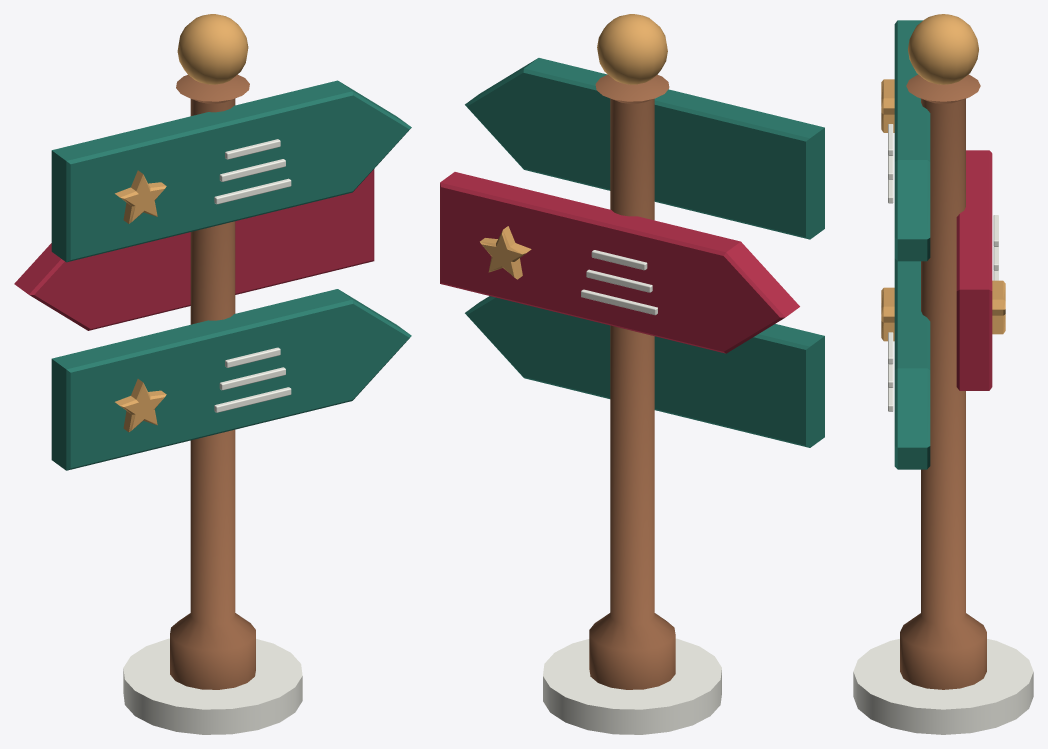
The model's file is storybook-christmas-market-market-wayfinding-sign-0ffe228b__19703.glb.
The picture shows the model from 3 angles, left to right: view 1: azimuth 30°, elevation 25°; view 2: azimuth 150°, elevation 25°; view 3: azimuth 270°, elevation 25°; orthographic projection.
Visible parts, largest first — view 1: market-wayfinding-sign; view 2: market-wayfinding-sign; view 3: market-wayfinding-sign.
Boxes of the visible parts, box(x1,y1,x2,y2) form: market-wayfinding-sign: box(14, 14, 411, 734); market-wayfinding-sign: box(440, 14, 824, 734); market-wayfinding-sign: box(853, 14, 1033, 734).
Size of the model in its own units: 1.31 by 2.41 by 0.58.
